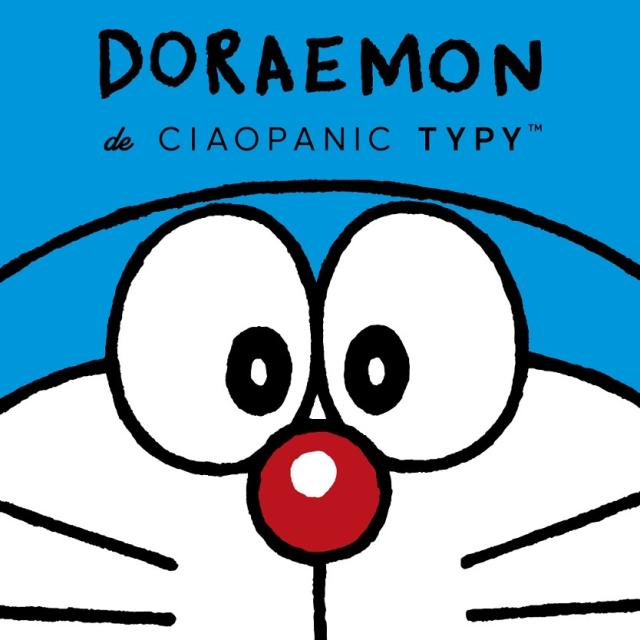doraemon: (3, 168, 639, 633)
